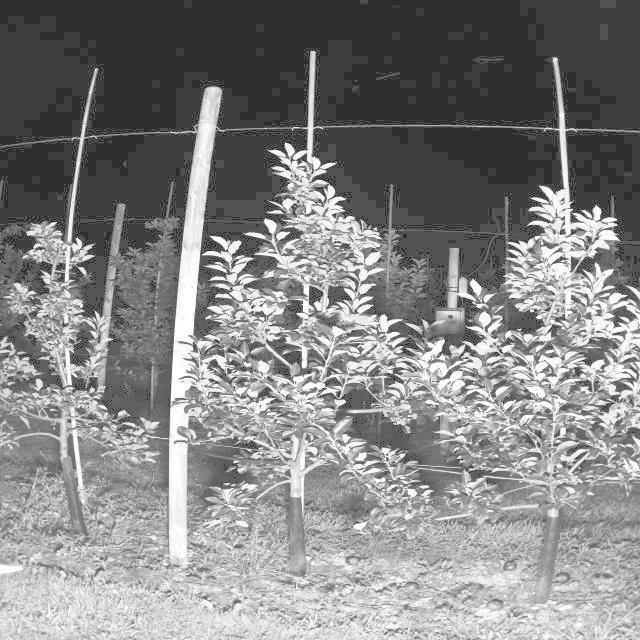Tree: (430, 184, 640, 603), (256, 145, 389, 576), (0, 223, 149, 544)
